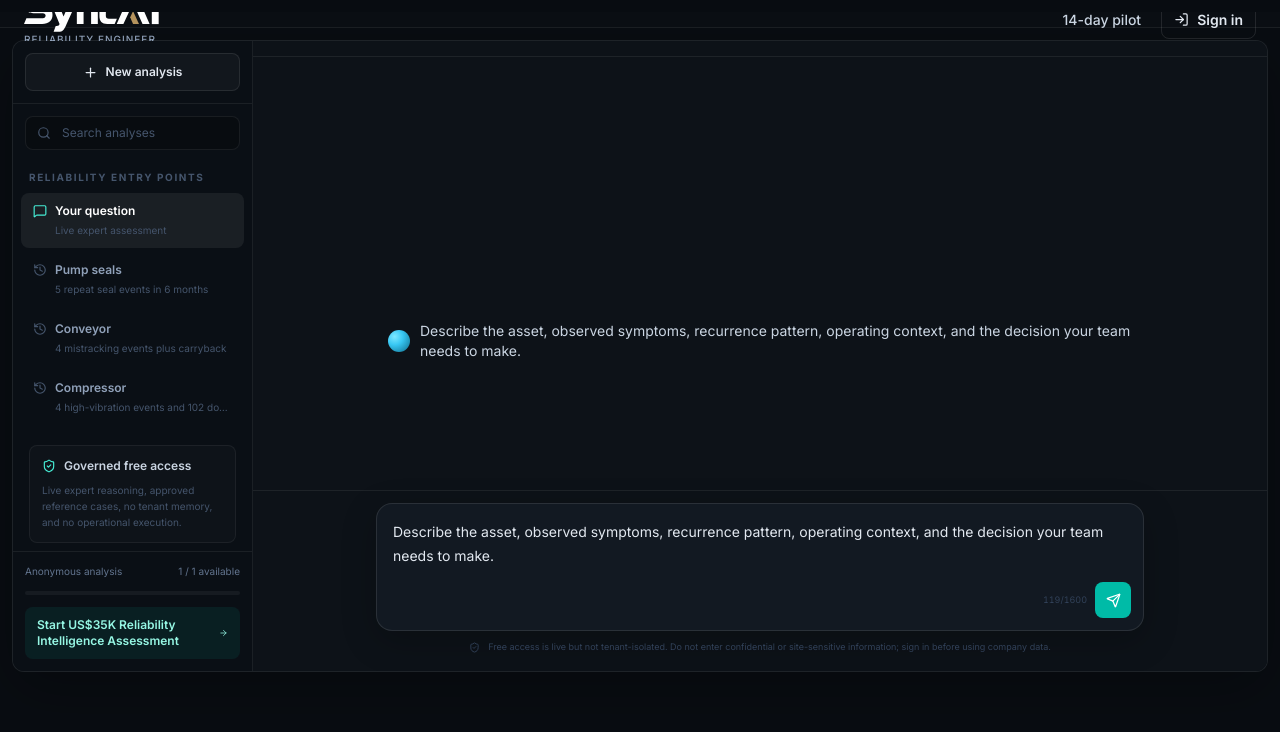
it: ReliabilityEngineerPage › supports editable prompts and stopping generation without consuming usage
Replace the text in the text box named "ask the reliability engineer" with "Build a field evidence plan before the next repair." at (760, 544), box left=385, top=512, right=1135, bottom=576
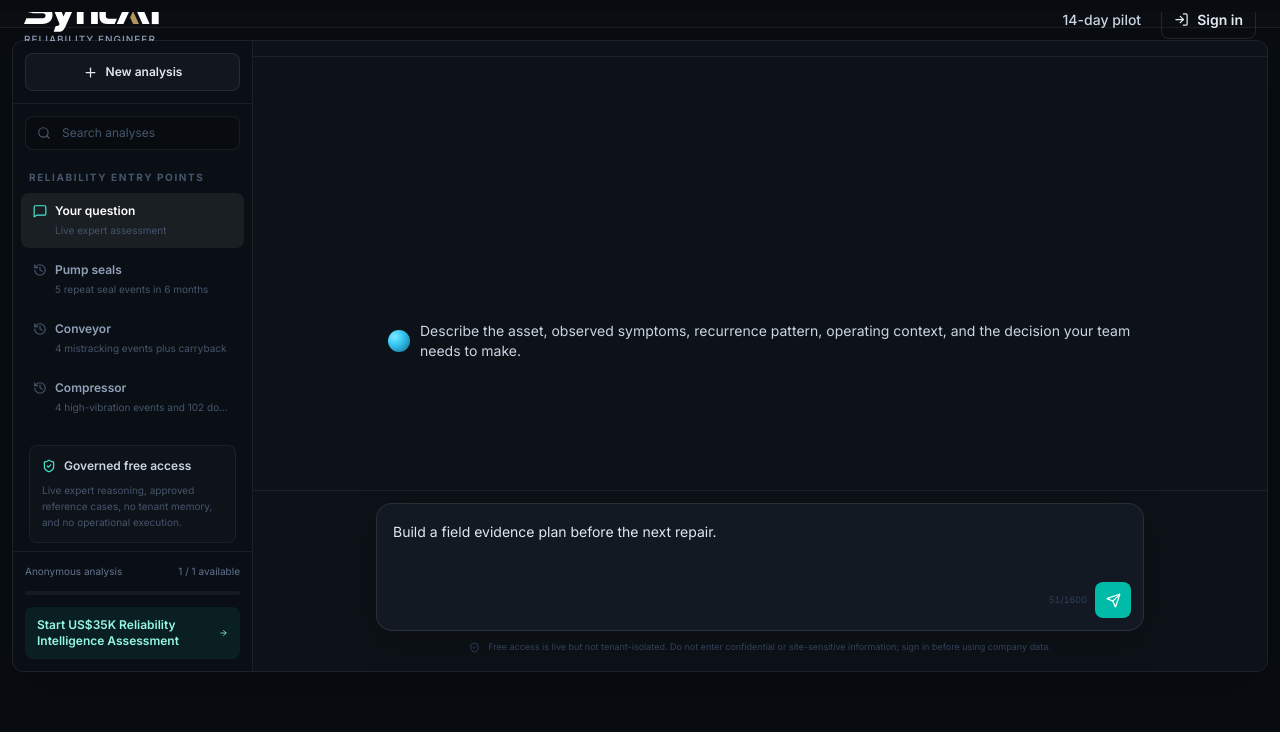
Click the button named "send message" at (1113, 600), box left=1095, top=582, right=1131, bottom=618
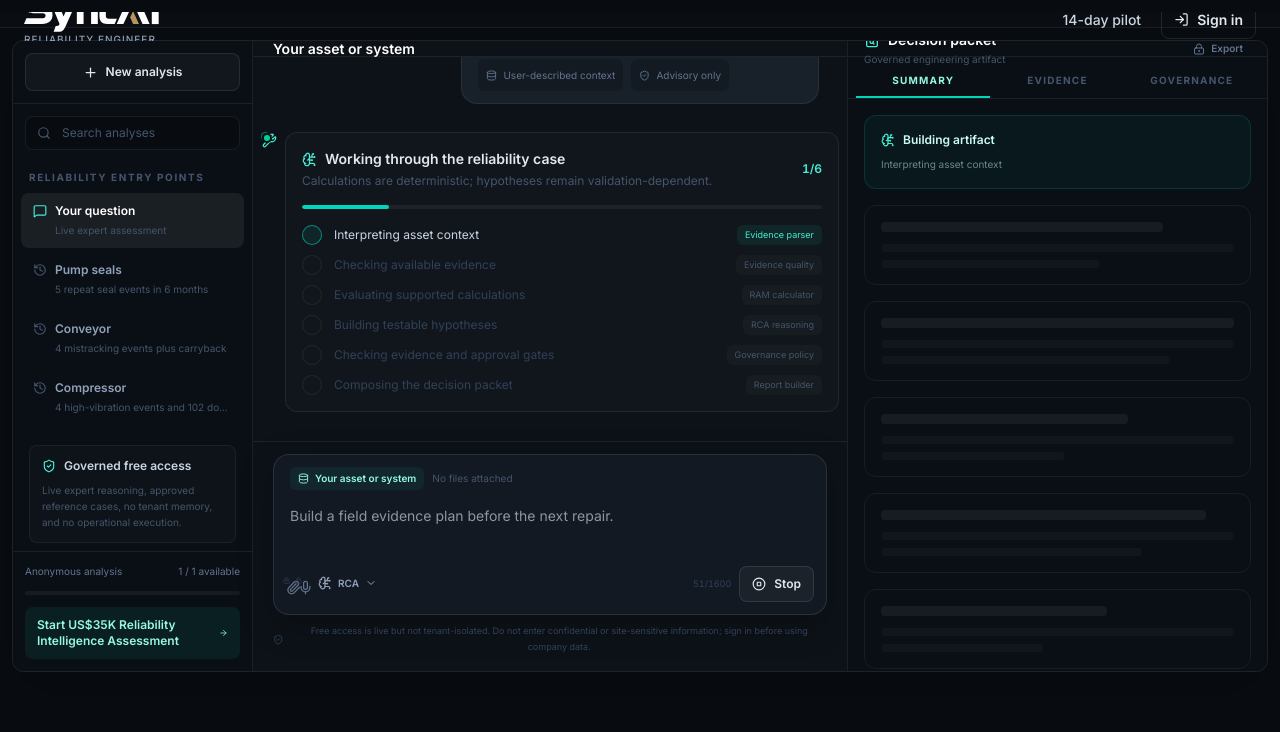
Expected: the text "Working through the reliability case" is shown, left=302, top=150, right=565, bottom=167
Click the button "Stop" at (777, 584), box left=739, top=566, right=814, bottom=602
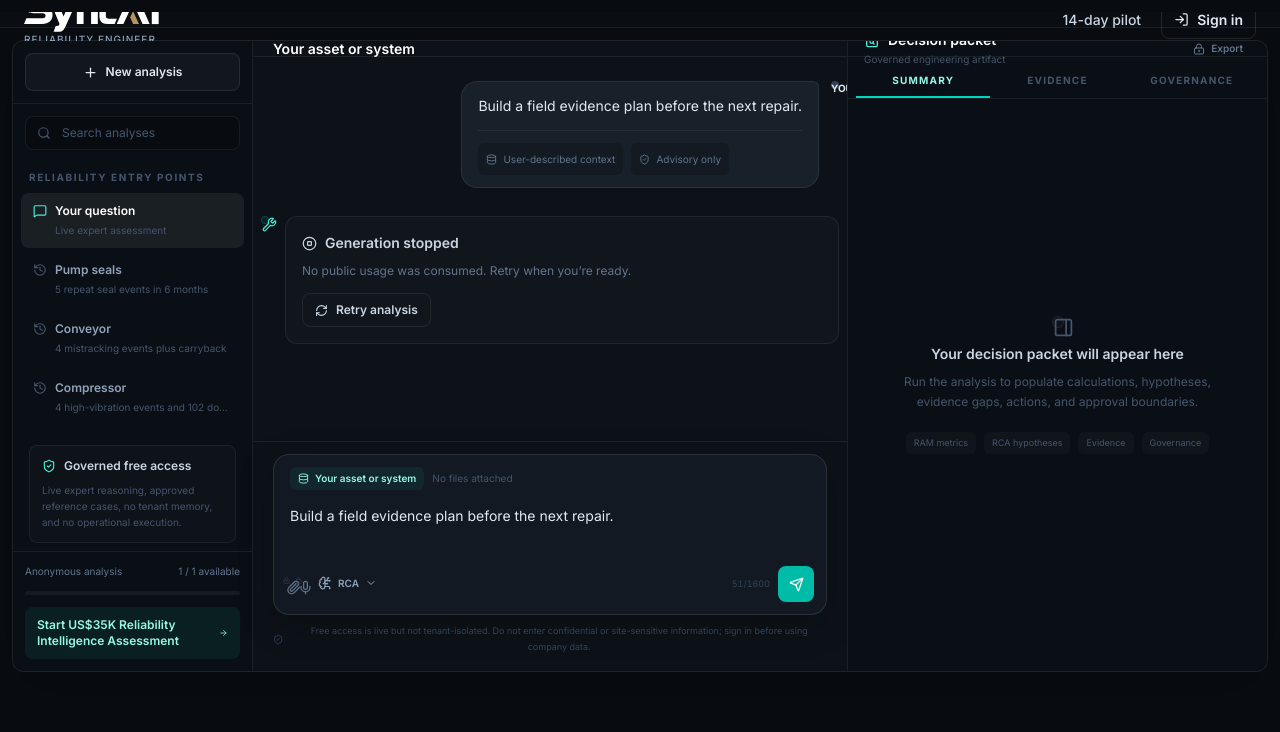
Expected: the text "Generation stopped" is shown, left=302, top=234, right=459, bottom=251
